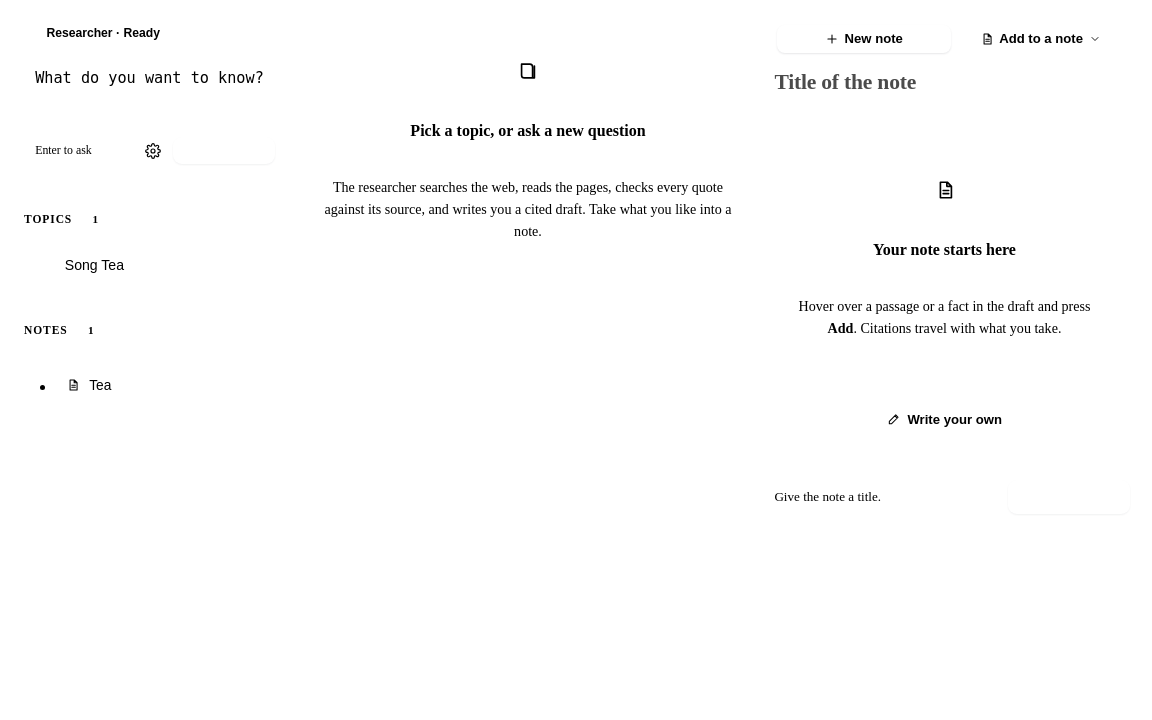
Test: Studio › lists topics and notes, and opens a draft
Click the button "Song Tea" at (159, 265), box left=46, top=250, right=273, bottom=280
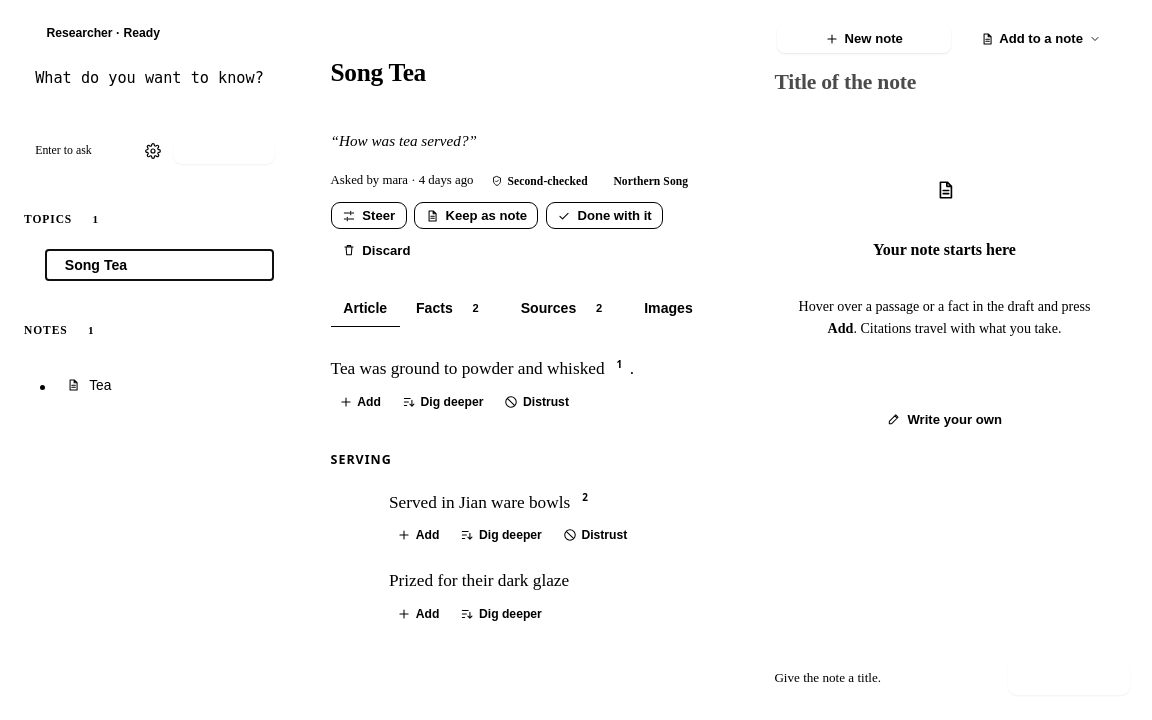
expect the button "Tea" is shown: met, box left=56, top=371, right=273, bottom=399
expect the heading "Song Tea" is shown: met, box left=330, top=58, right=426, bottom=86
